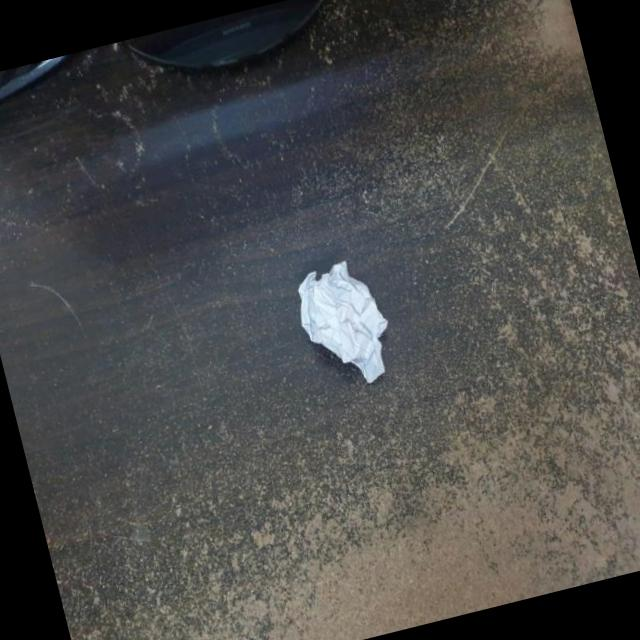cardboard paper: (295, 259, 384, 380)
